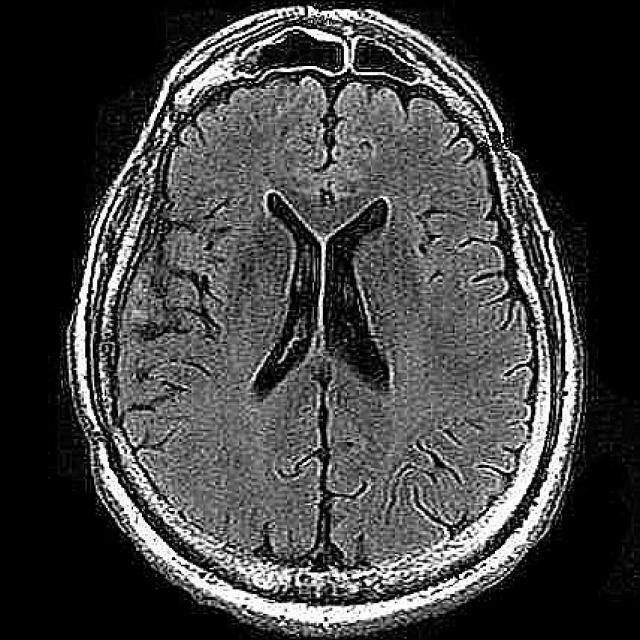notumor: (67, 6, 583, 635)
